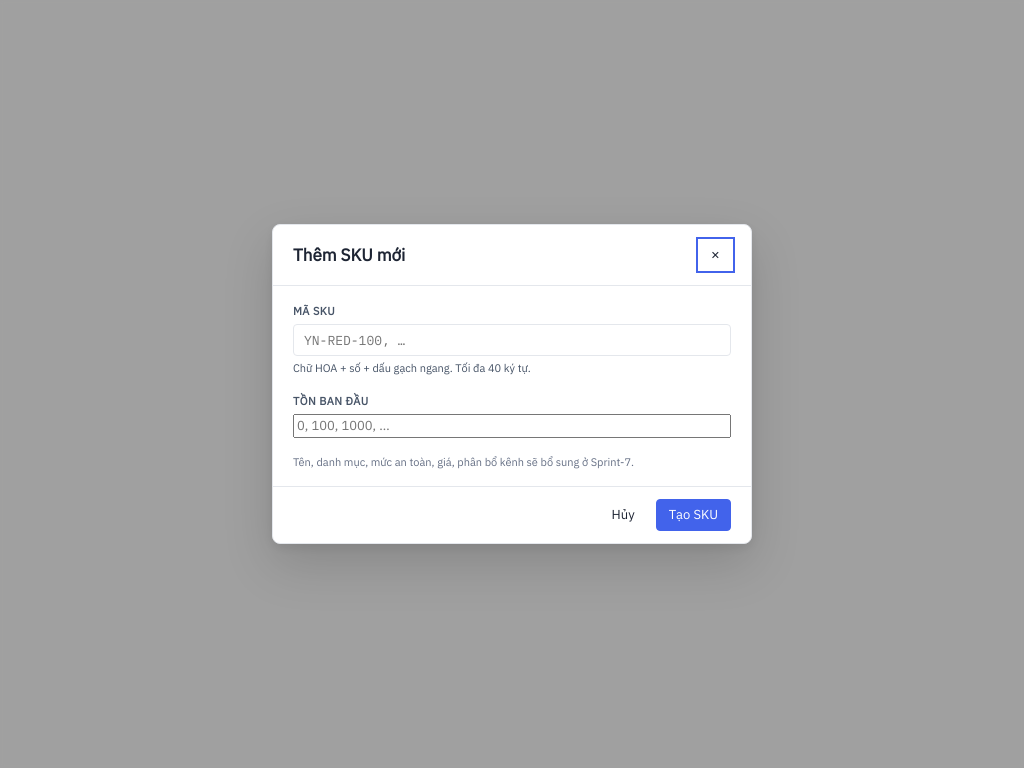
Test: CreateSkuModal › on 409 Conflict, surfaces a duplicate-SKU error INLINE on the sku field (no success toast)
The width and height of the screenshot is (1024, 768).
In the field with test id "create-sku-sku": (512, 340) [293,324,731,356], type "YN-001"
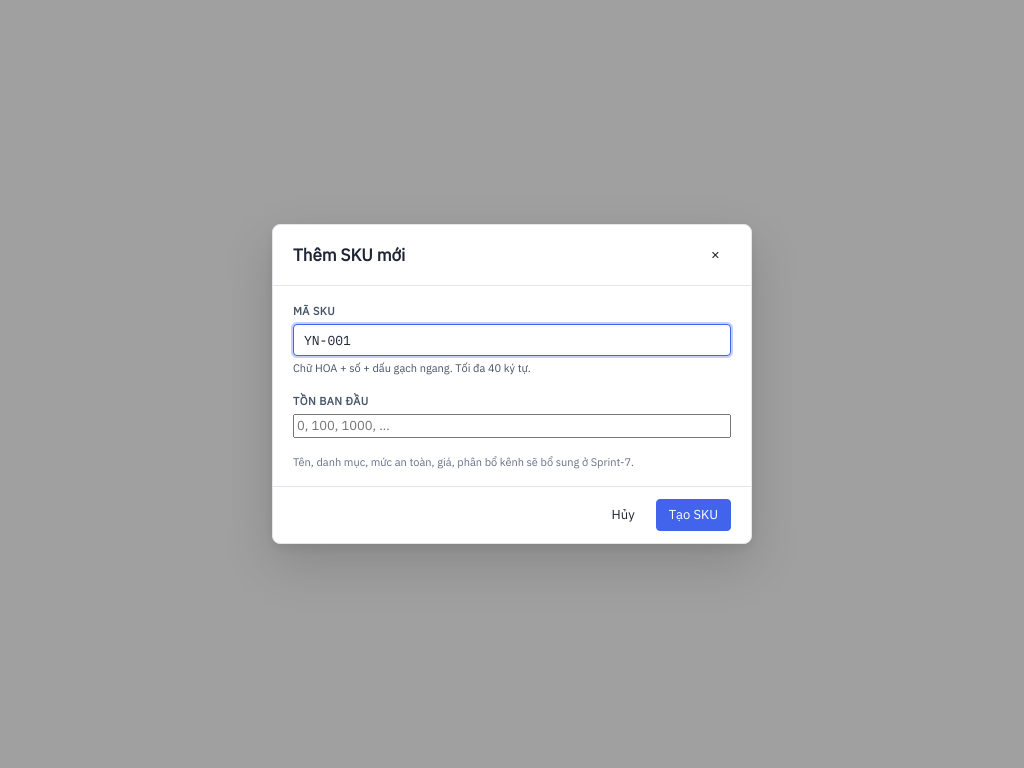
In the number field with test id "create-sku-initial": (512, 426) [293,414,731,438], type "100"
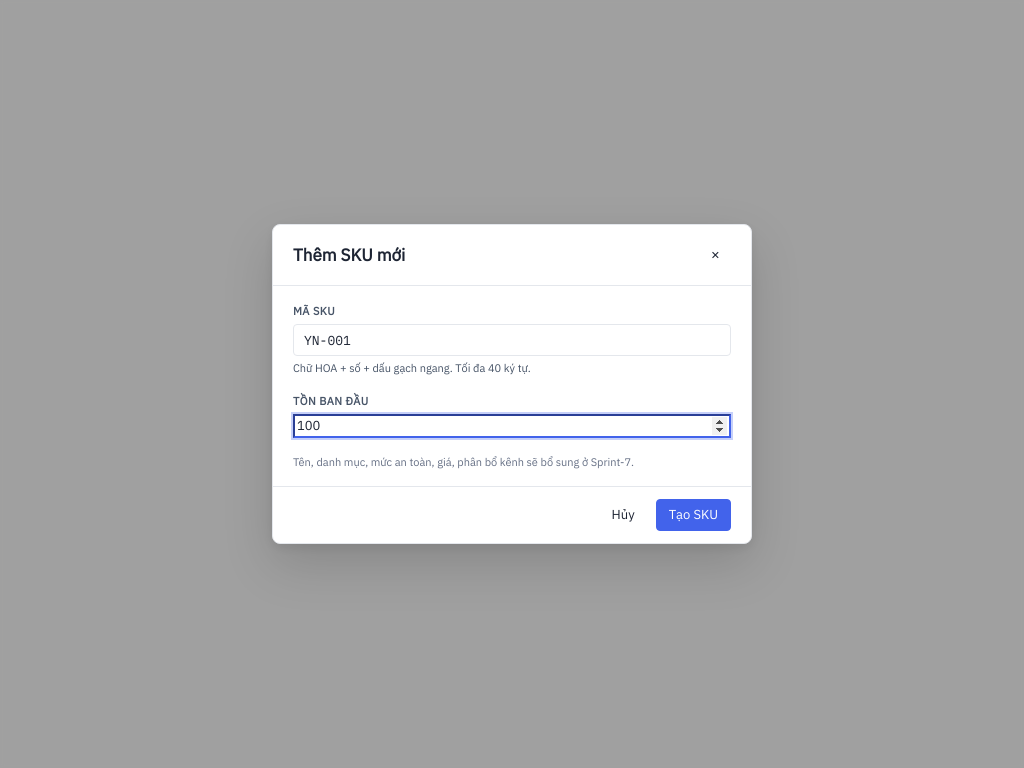
Click the button with test id "create-sku-submit": (693, 515) [656,499,731,531]
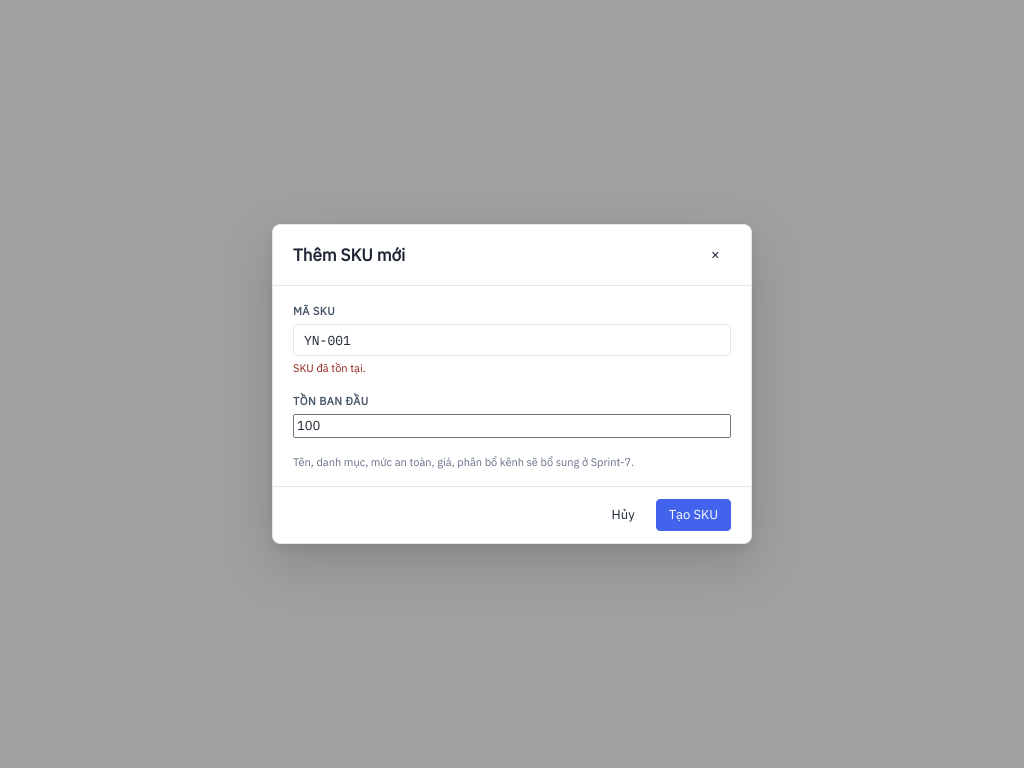
Now the message with test id "create-sku-sku-error" shows "đã tồn tại", box [293,361,366,375]
